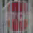Stop: (2, 6, 32, 29)
